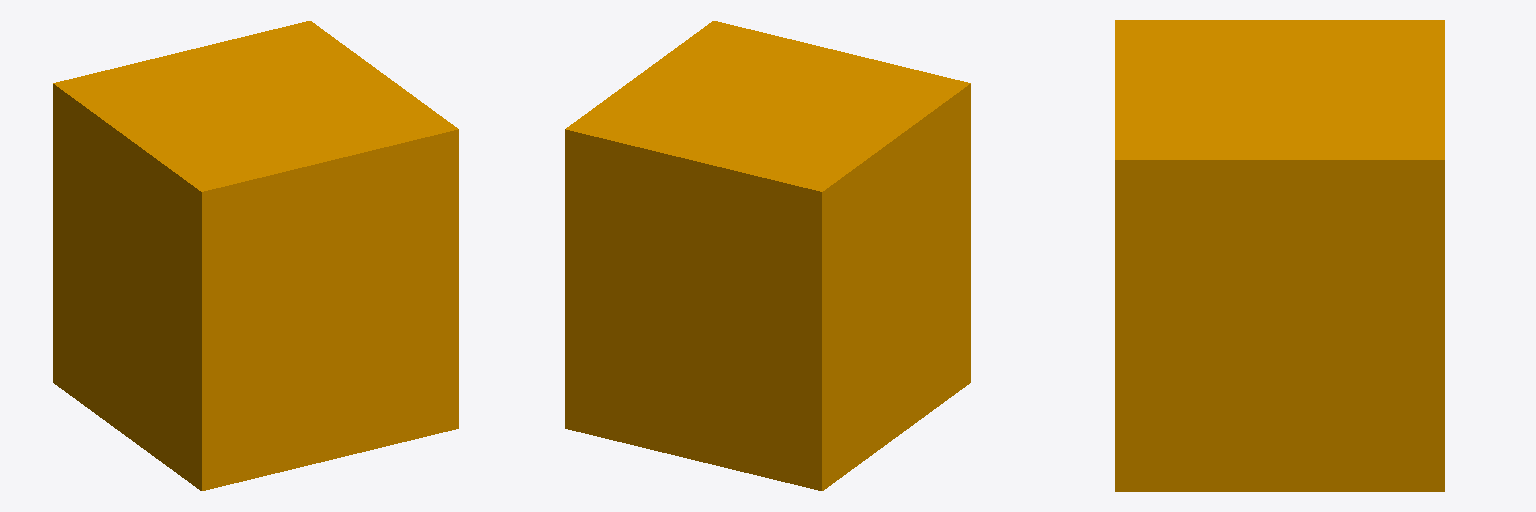
robot.urdf — object:
<robot name="object">
  <link name="object">
    <visual>
      <origin xyz="0 0 0" />
      <geometry>
        <box size="0.07200000000000001 0.07200000000000001 0.08" />
      </geometry>
    </visual>

    <collision>
      <origin xyz="0 0 0" />
      <geometry>
        <box size="0.07200000000000001 0.07200000000000001 0.08" />
      </geometry>
    </collision>

    <inertial>
      <mass value="0.05" />
      <inertia ixx="0.0001" ixy="0.0" ixz="0.0" iyy="0.0001" iyz="0.0" izz="0.0001" />
    </inertial>
  </link>
</robot>

--- Render facts (derived) ---
3 views of the same robot in one strip: view 1: azimuth 30°, elevation 25°; view 2: azimuth 150°, elevation 25°; view 3: azimuth 270°, elevation 25° (orthographic).
Robot: object — 1 links, 0 joints (none); root link object; default pose: all joints at 0.
Visible links, largest first — view 1: object; view 2: object; view 3: object.
Boxes of the visible links, x1,y1,x2,y2 form: object: (53, 21, 458, 490); object: (565, 21, 970, 490); object: (1115, 20, 1444, 491).
Size in the robot's own frame: 0.072 by 0.072 by 0.08 metres.
Geometry: primitives only (box / cylinder / sphere), no mesh files.